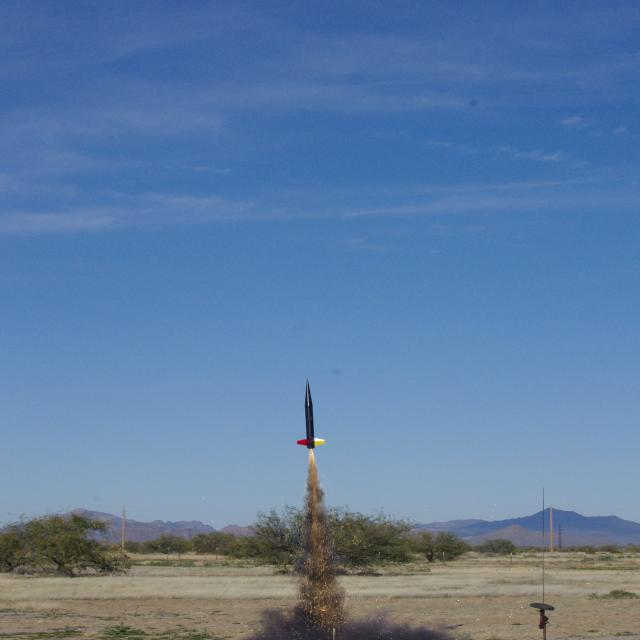Rocket: (296, 378, 326, 449)
